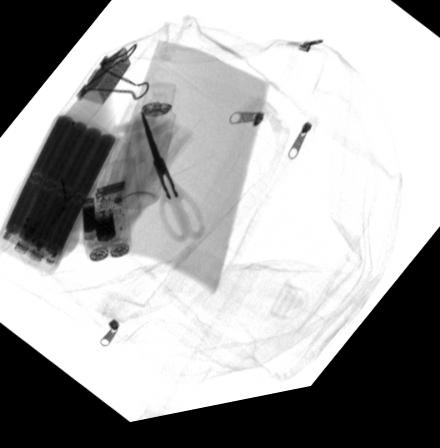Powerbank: (0, 112, 118, 278)
Scissors: (142, 115, 206, 249)
Sprayer: (116, 89, 175, 215)
